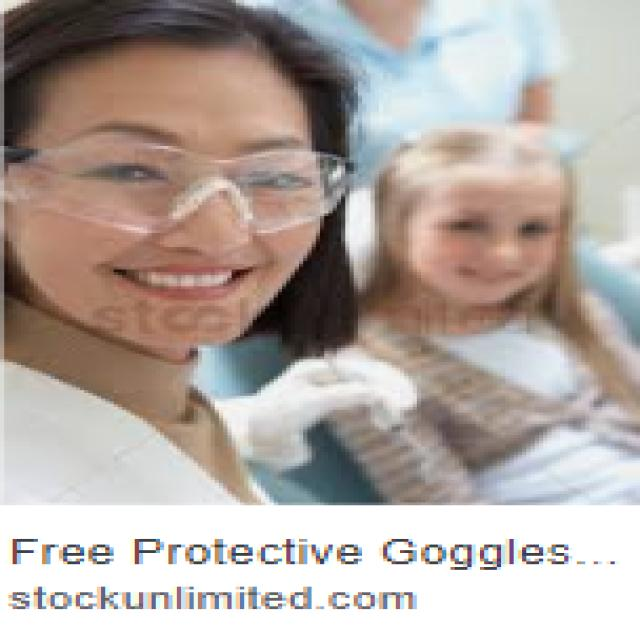glasses: (0, 118, 349, 222)
